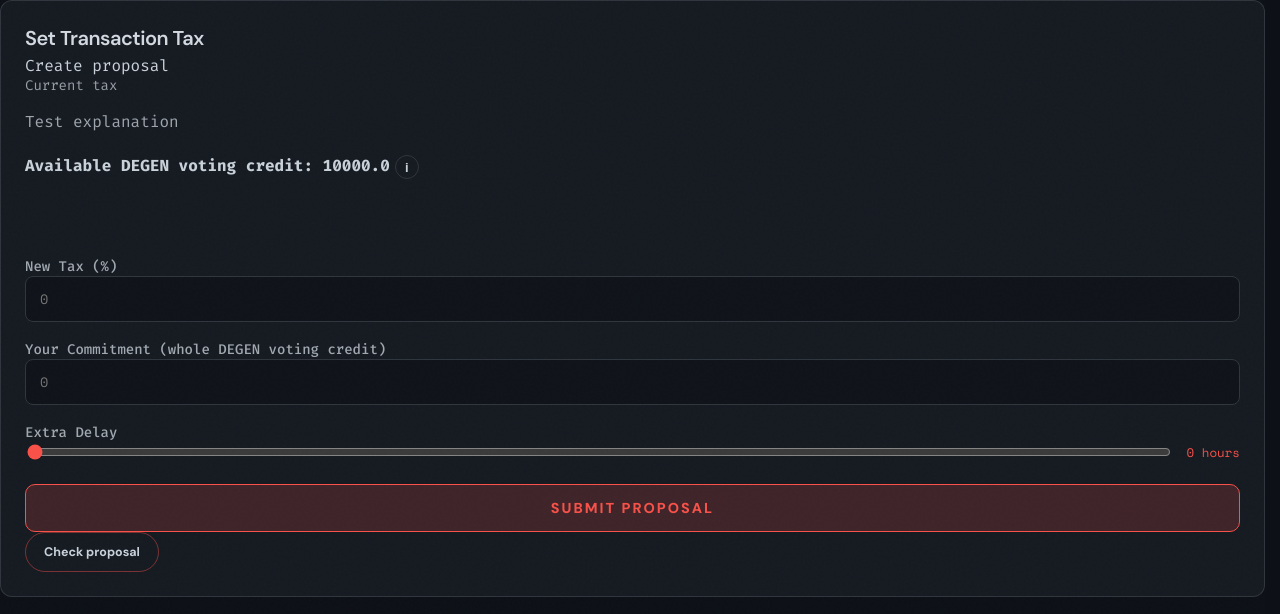
Scenario: governance composer safety › ignores in-flight simulation after an input changes
The image size is (1280, 614).
Check: the text "Available DEGEN voting credit: 10000.0" is shown, box [25, 156, 390, 177]
Click the button "Check proposal" at (92, 552), box [25, 532, 159, 572]
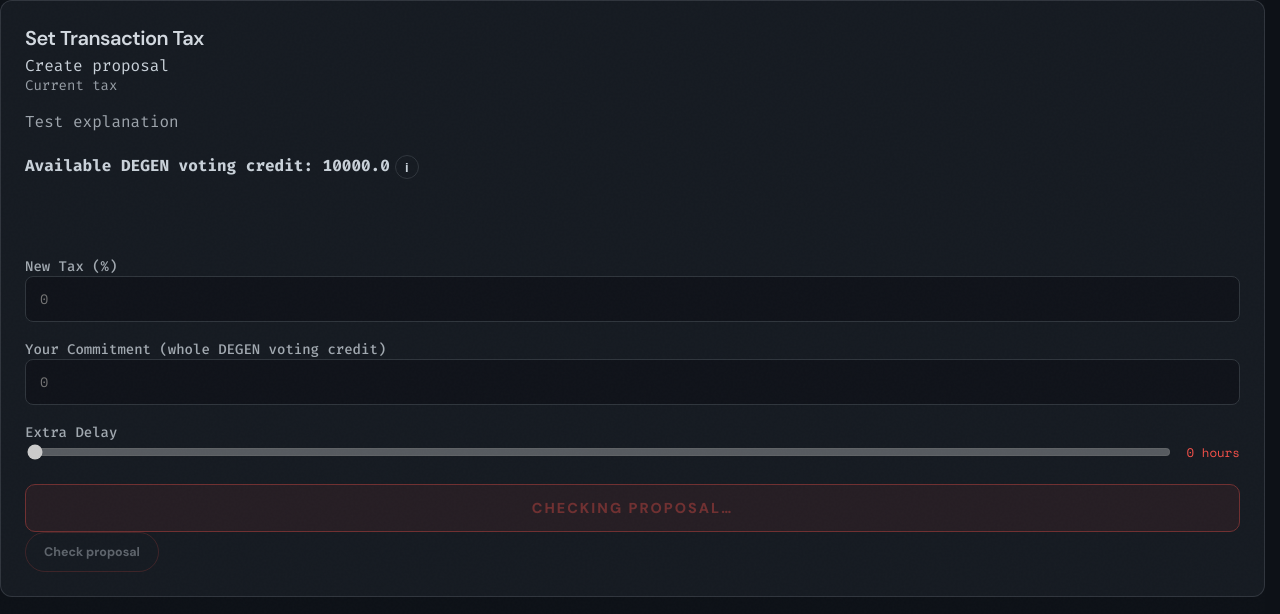
Type "5" into the field labelled "New Tax (%)" at (632, 299), box [25, 276, 1240, 322]
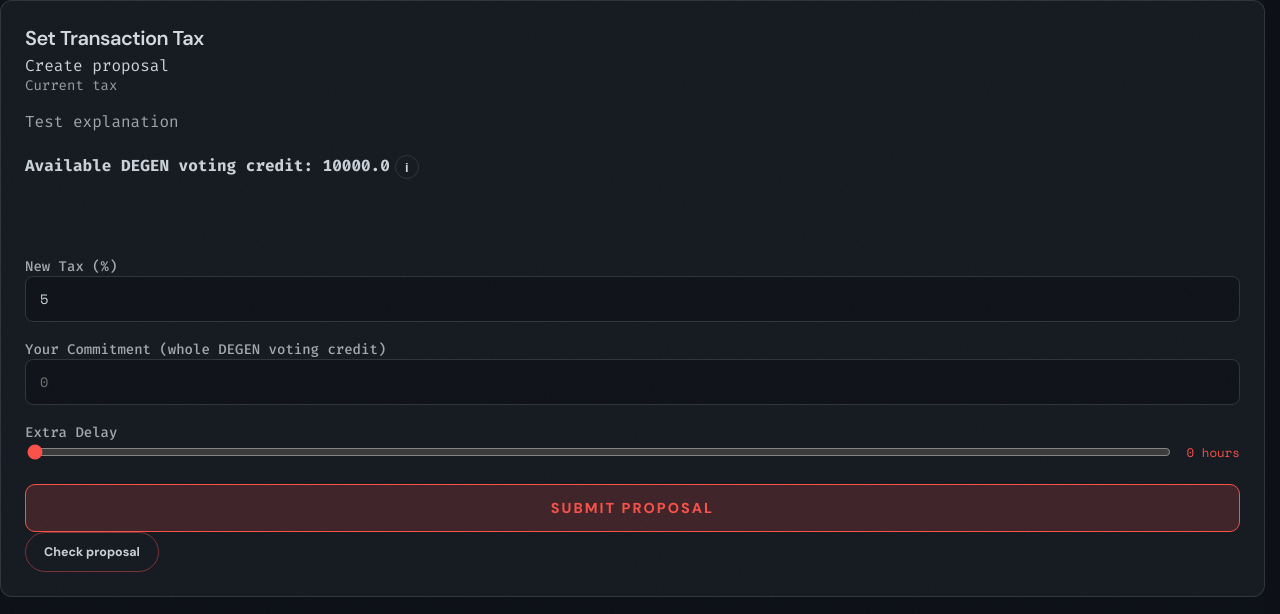
Check: the button "Check proposal" is enabled, box [25, 532, 159, 572]
